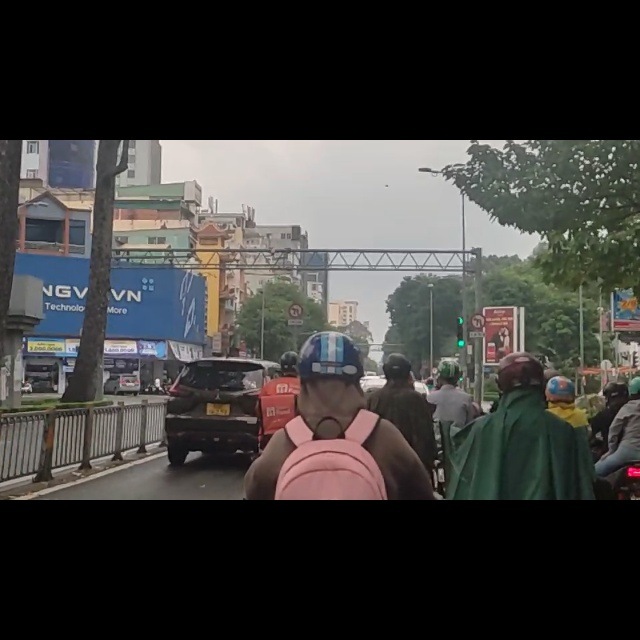bien_cam: (287, 289, 305, 320), (470, 307, 485, 335)
